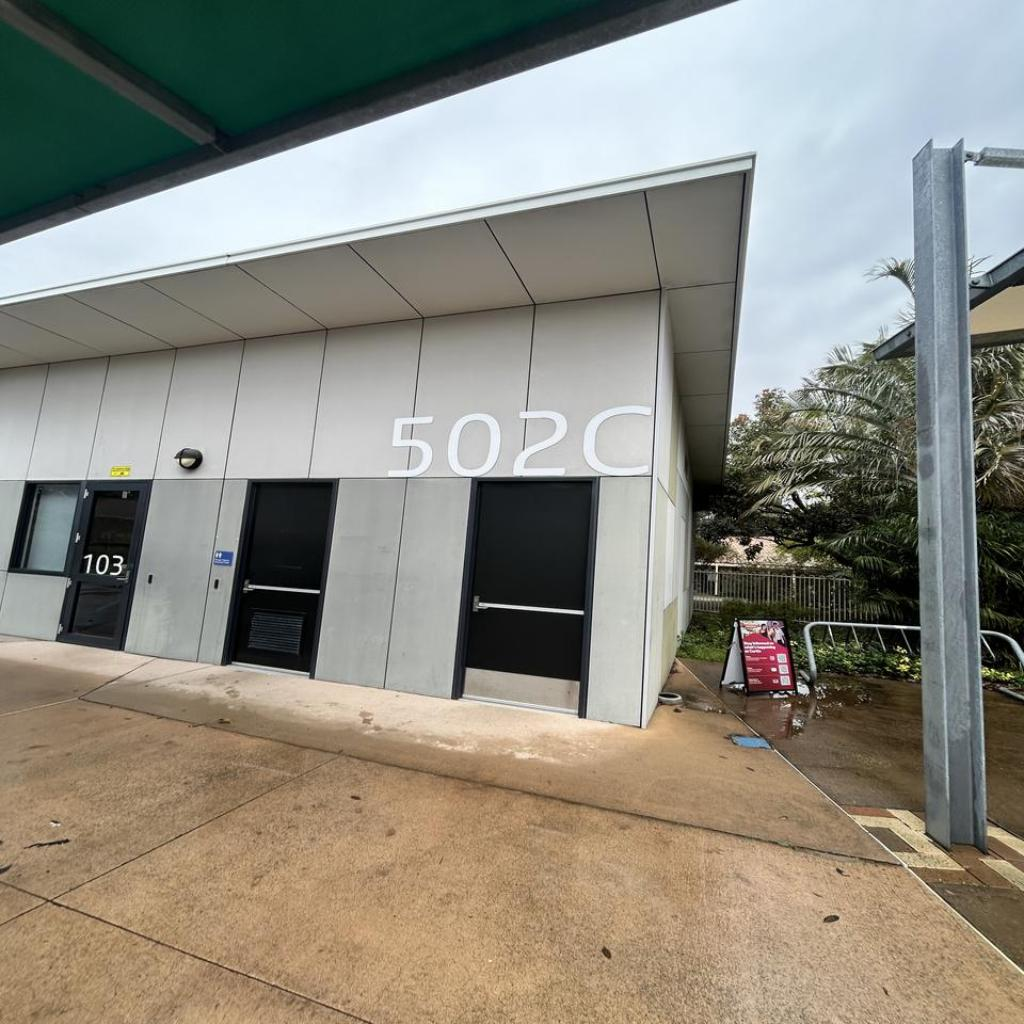BuildingCodes: (386, 404, 656, 480)
